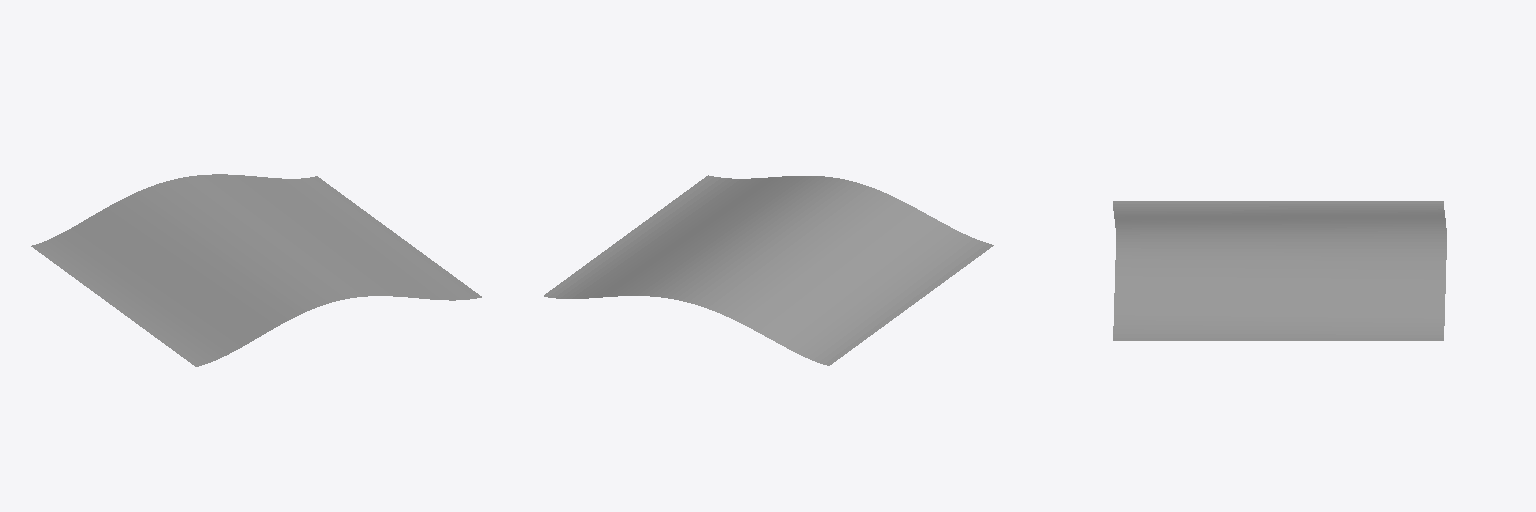
File: slope.obj
3 views of the same model, side by side, from view 1: azimuth 30°, elevation 25°; view 2: azimuth 150°, elevation 25°; view 3: azimuth 270°, elevation 25° (orthographic).
Visible parts, largest first — view 1: NurbsPath; view 2: NurbsPath; view 3: NurbsPath.
Part boxes in pixels (x1,y1,x2,y2): NurbsPath: (31,174,481,366); NurbsPath: (544,175,993,365); NurbsPath: (1113,201,1446,340).
Size of the model in its own units: 4 by 0.4055 by 4.03.